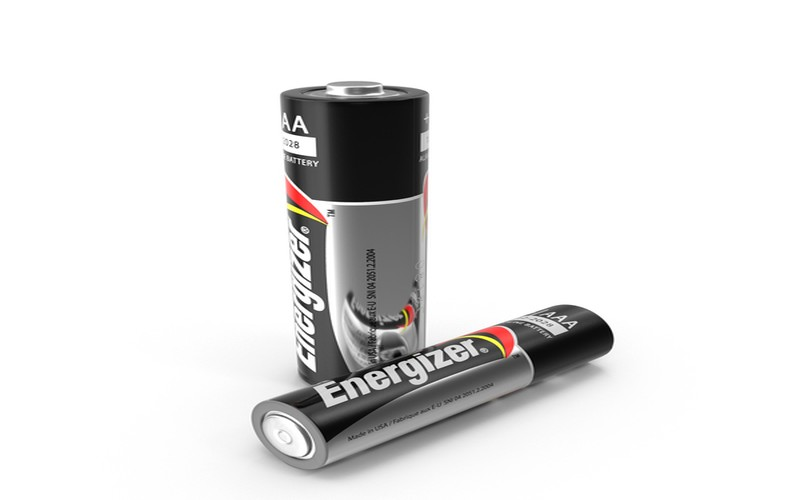Battery: (238, 298, 639, 483), (277, 73, 450, 396)
